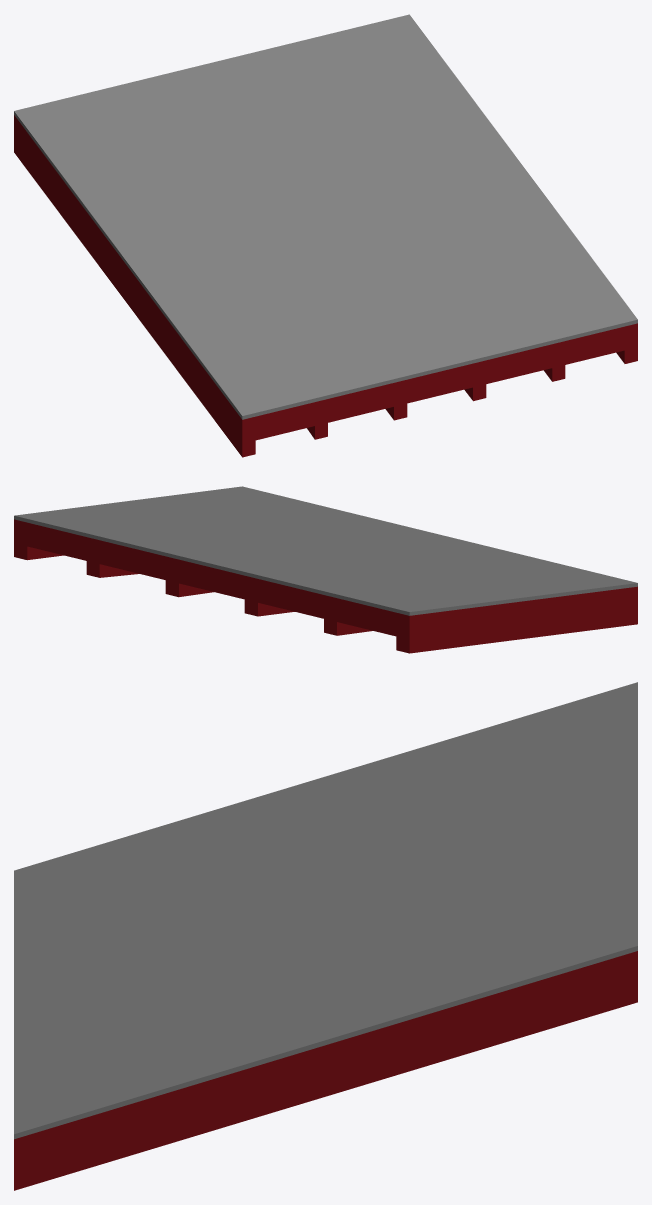
Rendered from SM_MH_01_Slate_Porch_Roof_01.fbx.
3 renders of one model, top to bottom at view 1: azimuth 30°, elevation 25°; view 2: azimuth 150°, elevation 25°; view 3: azimuth 270°, elevation 25°, orthographic. The views are drawn at different scales.
Parts seen in each view (by area): view 1: SM_MH_01_Slate_Porch_Roof_01_LOD0; view 2: SM_MH_01_Slate_Porch_Roof_01_LOD0; view 3: SM_MH_01_Slate_Porch_Roof_01_LOD0.
Boxes of the visible parts, x1,y1,x2,y2 form: SM_MH_01_Slate_Porch_Roof_01_LOD0: (14,14,637,457); SM_MH_01_Slate_Porch_Roof_01_LOD0: (14,486,637,653); SM_MH_01_Slate_Porch_Roof_01_LOD0: (14,682,637,1190).
Size of what is drawn, in the model's own units: 300 by 130 by 300.
